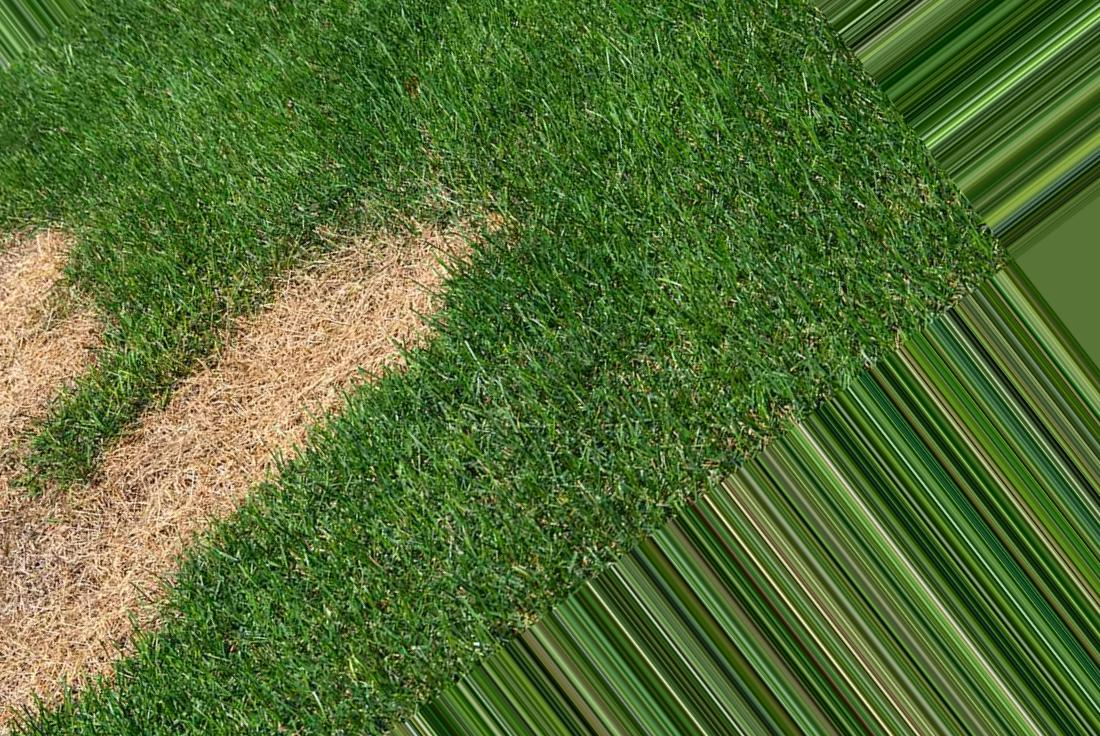patch: (41, 501, 122, 657), (137, 444, 237, 501), (251, 332, 333, 401), (347, 290, 435, 309), (37, 336, 70, 369)
